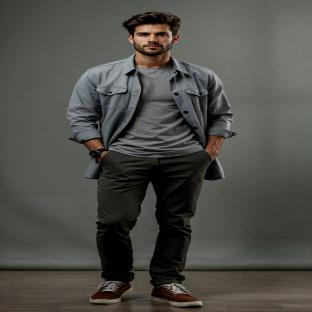Human: (67, 12, 236, 306)
